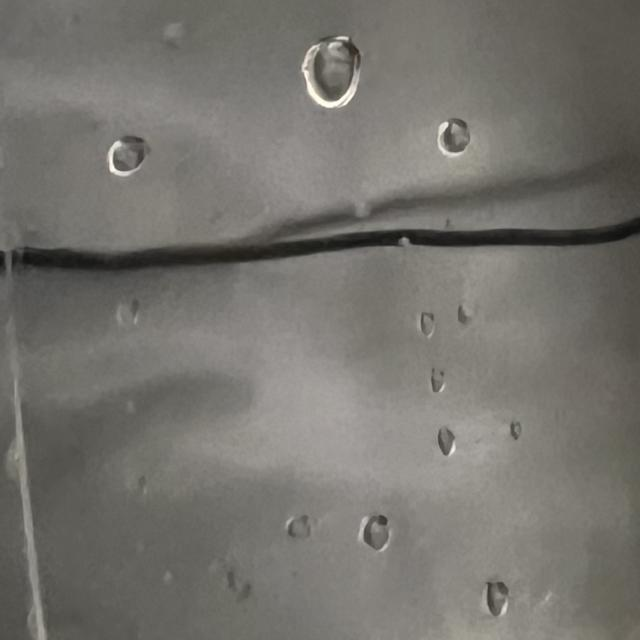raindrop: (300, 34, 372, 111), (99, 127, 157, 198), (275, 504, 330, 553), (154, 10, 200, 63), (478, 562, 516, 614), (422, 414, 458, 466), (407, 293, 452, 334), (440, 104, 472, 161), (223, 550, 259, 596), (419, 354, 457, 397), (356, 500, 388, 550)
